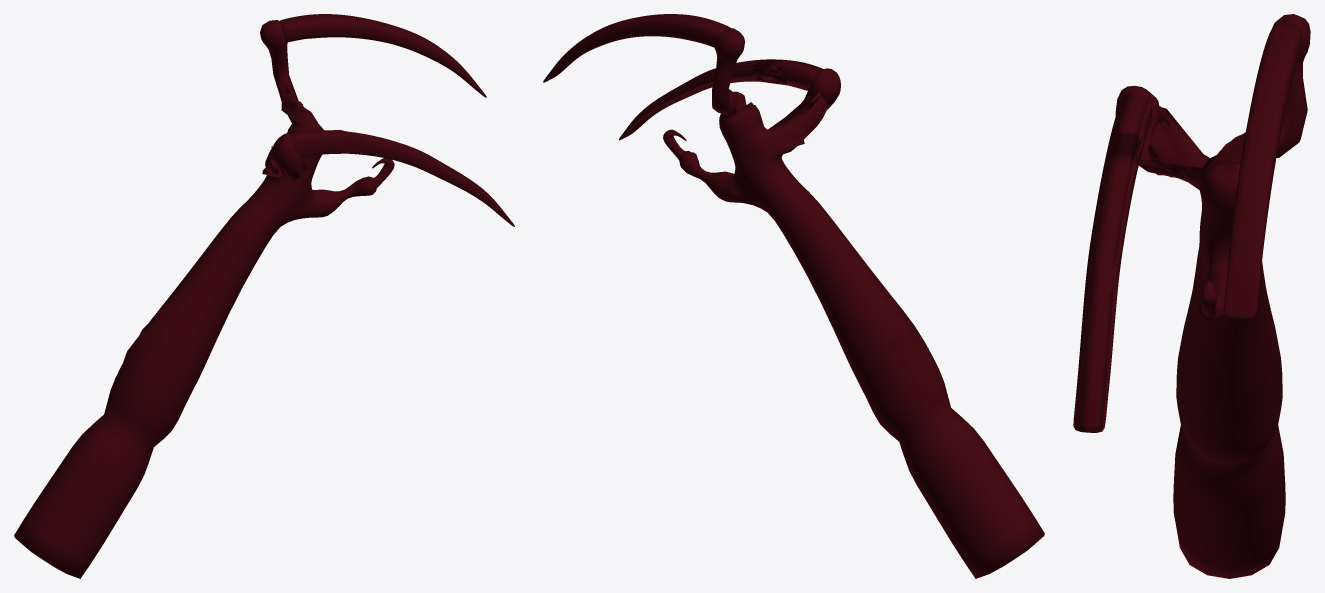
Rendered from Claw.fbx.
3 renders of one model, left to right at view 1: azimuth 30°, elevation 25°; view 2: azimuth 150°, elevation 25°; view 3: azimuth 270°, elevation 25°, orthographic. The views are drawn at different scales.
Parts seen in each view (by area): view 1: kaedim_mesh_0_Mesh, kaedim_mesh_3_Mesh.003, kaedim_mesh_2_Mesh.002; view 2: kaedim_mesh_0_Mesh, kaedim_mesh_2_Mesh.002, kaedim_mesh_3_Mesh.003; view 3: kaedim_mesh_0_Mesh, kaedim_mesh_3_Mesh.003, kaedim_mesh_2_Mesh.002, kaedim_mesh_1_Mesh.001.
Boxes of the visible parts, x1,y1,x2,y2 form: kaedim_mesh_0_Mesh: (14, 20, 376, 578); kaedim_mesh_3_Mesh.003: (290, 130, 514, 226); kaedim_mesh_2_Mesh.002: (279, 14, 486, 97); kaedim_mesh_0_Mesh: (679, 28, 1044, 578); kaedim_mesh_2_Mesh.002: (543, 14, 730, 82); kaedim_mesh_3_Mesh.003: (619, 59, 822, 140); kaedim_mesh_0_Mesh: (1115, 14, 1310, 578); kaedim_mesh_3_Mesh.003: (1073, 94, 1152, 432); kaedim_mesh_2_Mesh.002: (1224, 24, 1309, 318); kaedim_mesh_1_Mesh.001: (1200, 280, 1216, 317).
Bounding box in the file's own units: 203 × 200 × 59.3.
